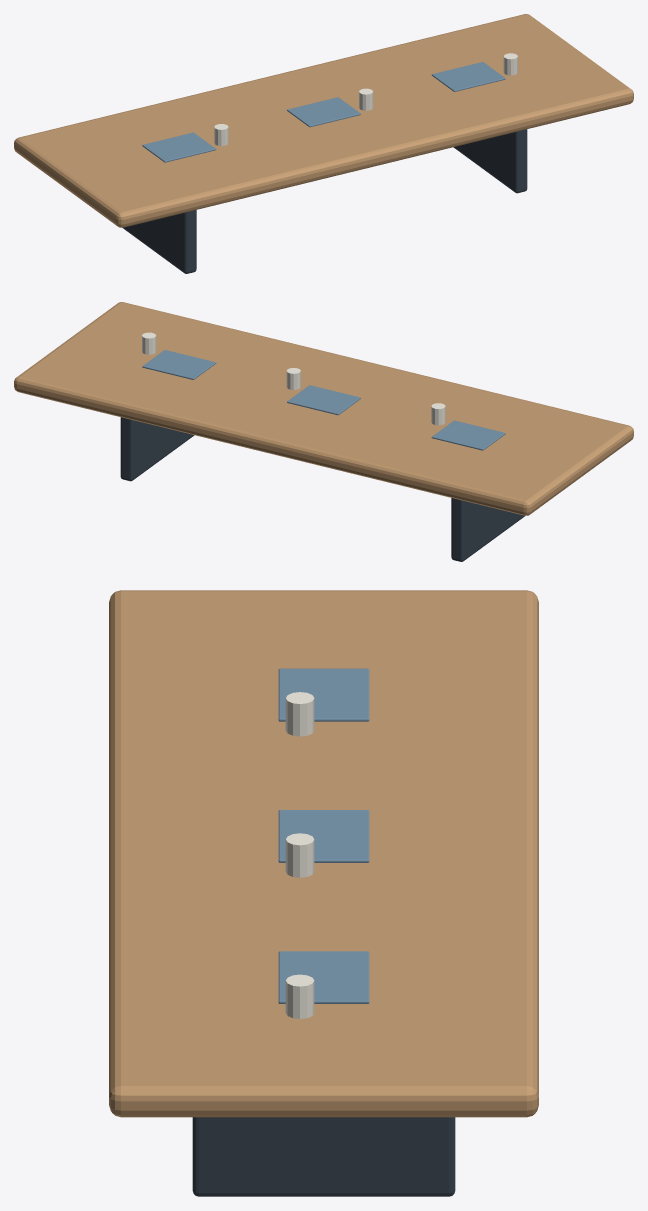
The model's file is meeting.glb.
3 renders of one model, top to bottom at view 1: azimuth 30°, elevation 25°; view 2: azimuth 150°, elevation 25°; view 3: azimuth 270°, elevation 25°, orthographic. The views are drawn at different scales.
Parts seen in each view (by area): view 1: meeting; view 2: meeting; view 3: meeting.
Part boxes in pixels (x1,y1,x2,y2): meeting: (14,14,633,273); meeting: (14,302,633,561); meeting: (109,590,538,1196).
Size of the model in its own units: 5 by 1.05 by 1.8.
